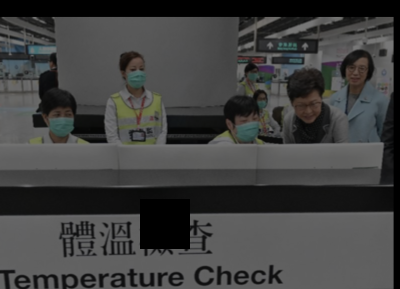with_mask: (235, 110, 261, 141), (47, 108, 75, 136), (125, 63, 146, 87), (247, 67, 259, 80), (256, 95, 268, 108)
without_mask: (295, 97, 323, 123), (345, 61, 370, 83)
